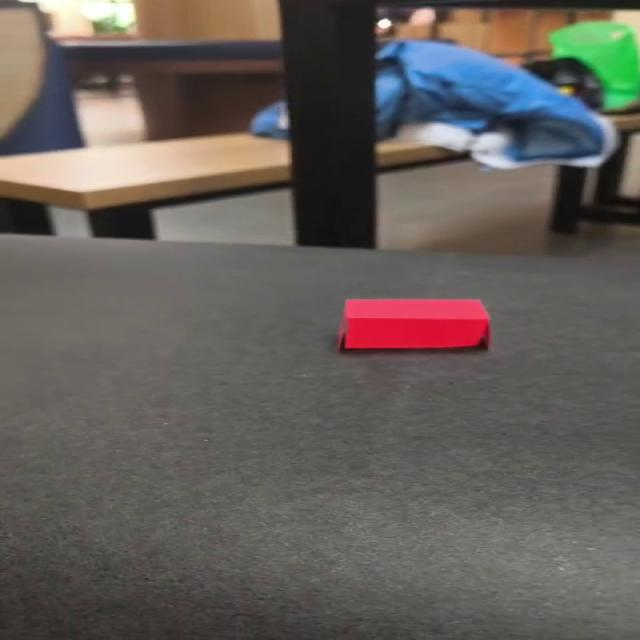red block: (338, 297, 491, 350)
